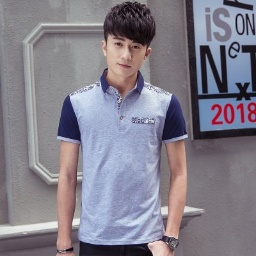face: (101, 1, 158, 77)
